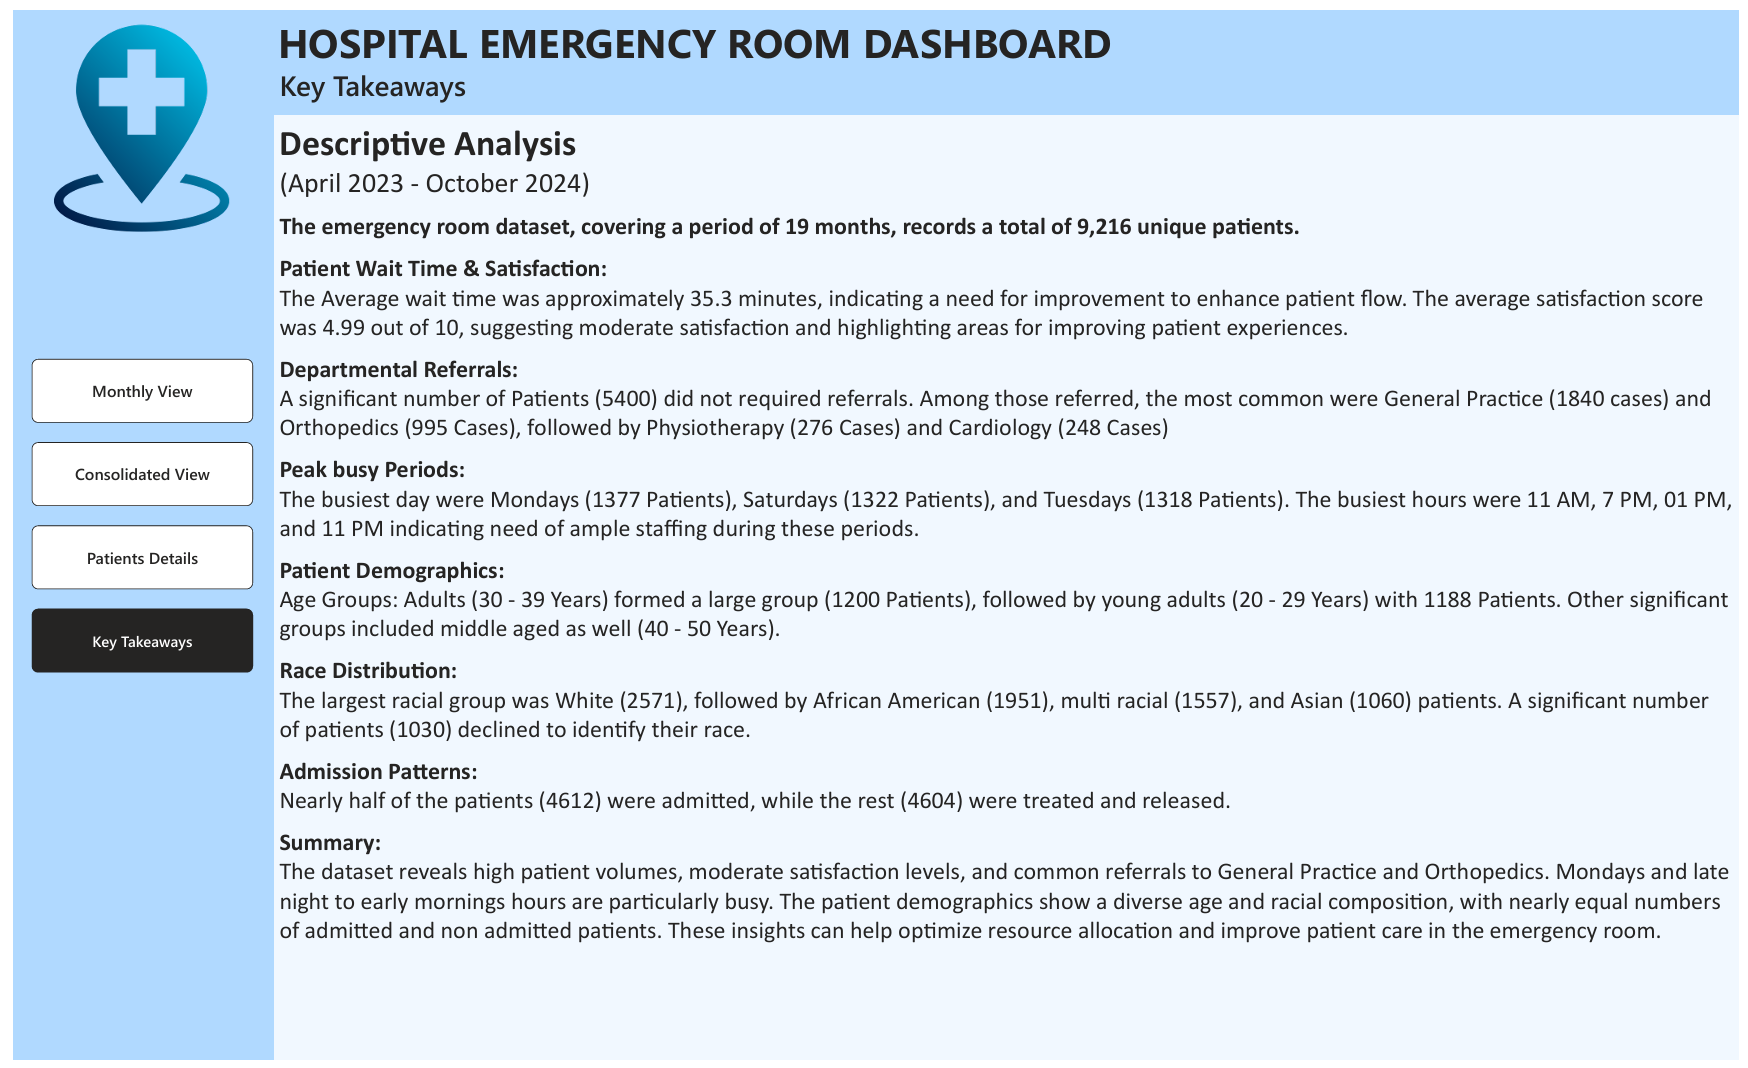

Layout of this report page (visuals, bound fields, positions):
{"tool":"powerbi","page":{"name":"Key Takeaways ","canvas":[2300,1400],"ordinal":3},"visuals":[{"type":"shape","box":[348,0,1952,140],"z":0},{"type":"textbox","box":[348,0,1162,92],"z":1000},{"type":"textbox","box":[350,68.2,411.4,72.7],"z":2000},{"type":"shape","box":[0,0,346.7,1400],"z":3000},{"type":"image","box":[31.8,18.2,279.5,277.3],"z":4000},{"type":"textbox","box":[350,140.9,1950,1259.1],"z":5000},{"type":"pageNavigator","box":[25,463.6,295.5,420.5],"z":5001}]}

Visuals, with their boxes in screenshot pixels (x1, y1, x2, y2), scaled from the page's 2300x1400 canvas onto the 1748x1068 screenshot:
shape: box=[264, 0, 1747, 107]
textbox: box=[264, 0, 1148, 70]
textbox: box=[266, 52, 579, 107]
shape: box=[0, 0, 263, 1067]
image: box=[24, 14, 237, 225]
textbox: box=[266, 107, 1747, 1067]
pageNavigator: box=[19, 354, 244, 674]
